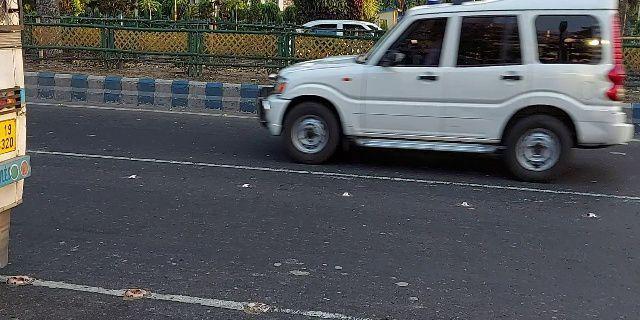Car: (254, 1, 636, 185)
